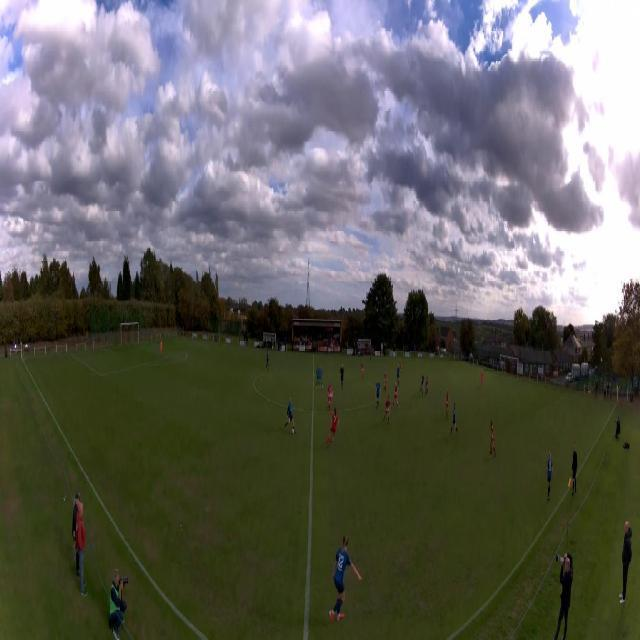ball: (292, 428, 295, 434)
player: (329, 534, 363, 624), (325, 408, 340, 449), (545, 450, 554, 500), (284, 397, 296, 434), (450, 403, 459, 437), (382, 395, 391, 426), (489, 420, 496, 458), (327, 381, 333, 413), (316, 365, 324, 389), (393, 382, 399, 409), (376, 380, 381, 409), (340, 364, 345, 390), (419, 375, 425, 395), (384, 373, 388, 394), (446, 390, 449, 418), (396, 365, 400, 386), (425, 377, 429, 396), (361, 360, 364, 380), (266, 351, 269, 369), (481, 370, 484, 387), (399, 360, 402, 376), (160, 340, 162, 358)
